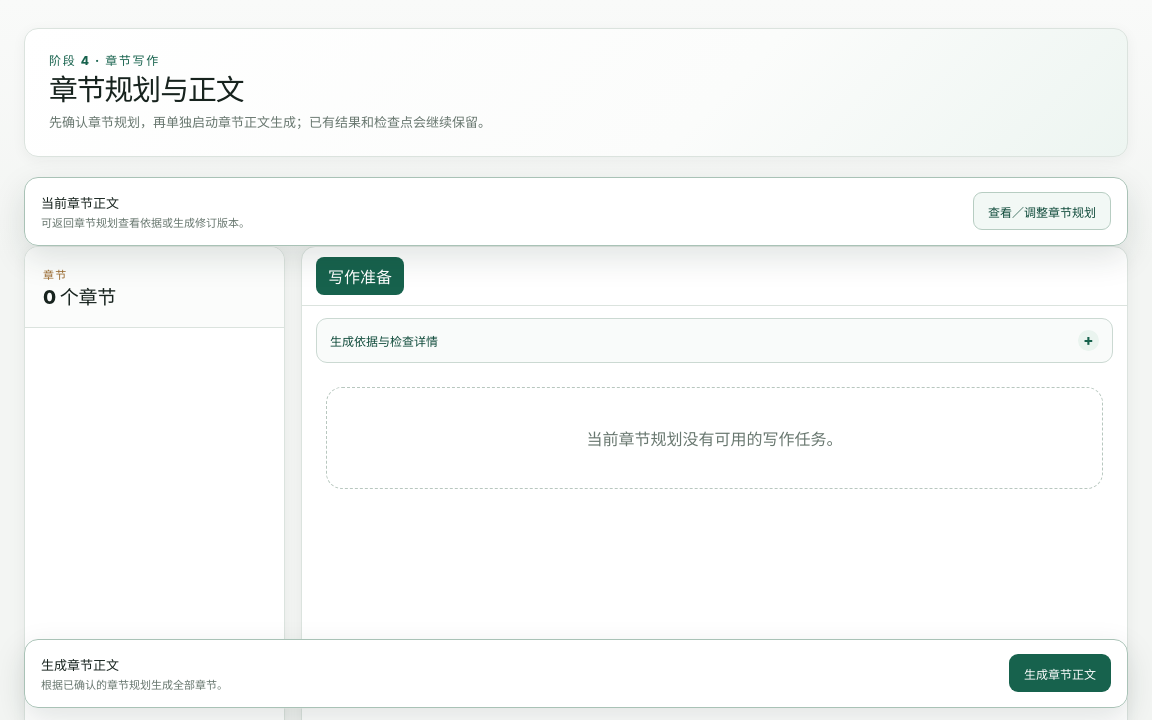
stage 04 chapter-planning handoff › refreshes completed results after a stale generate click without resubmitting
What coordinates should you click on to do the following:
click the button "生成章节正文"
I would click on:
 (1060, 673)
Its box is x1=1009 y1=654 x2=1111 y2=692.
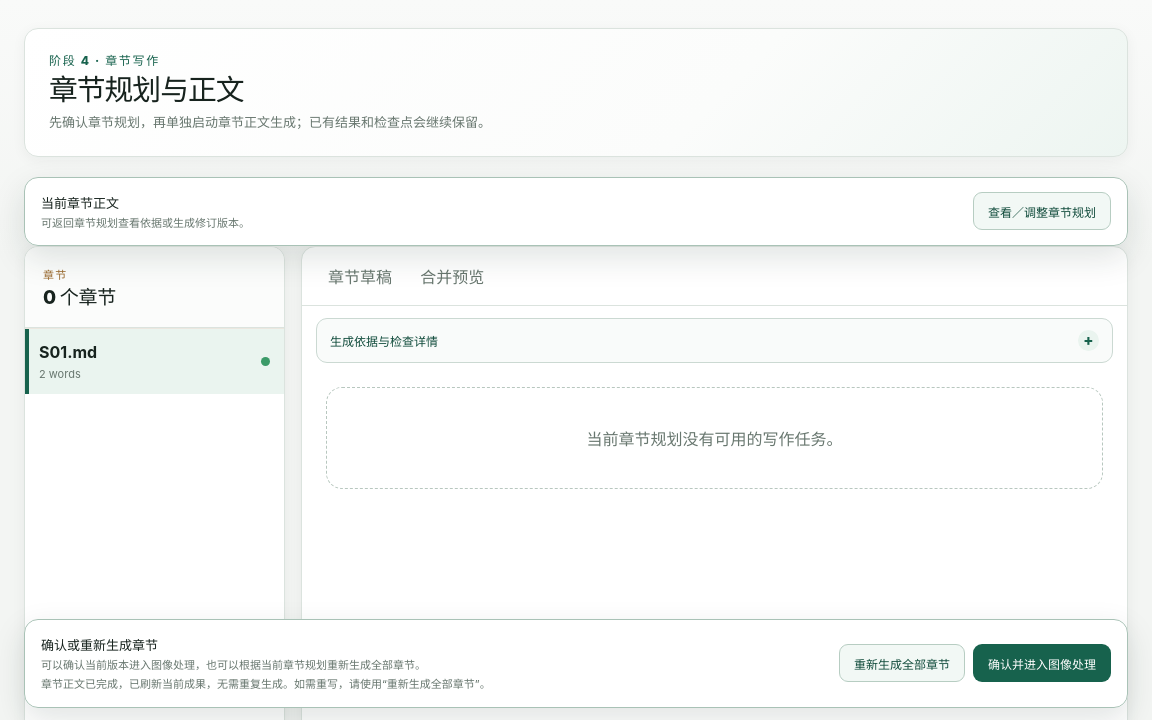
Expected: the button "确认并进入图像处理" is enabled, x1=973 y1=644 x2=1111 y2=682
Expected: the text "章节正文已完成，已刷新当前成果，无需重复生成。如需重写，请使用“重新生成全部章节”。" is shown, x1=41 y1=678 x2=491 y2=692
